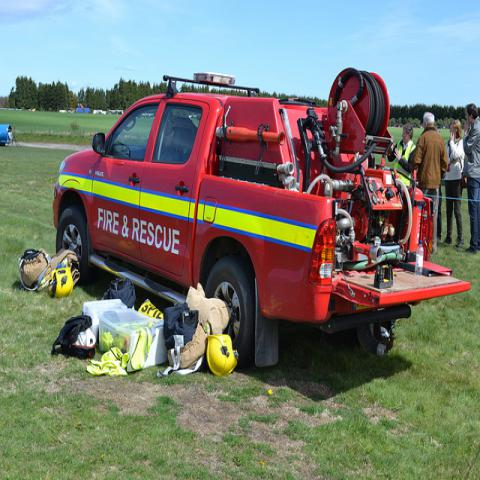truck: (50, 67, 474, 371), (0, 123, 15, 147), (76, 107, 90, 114)
